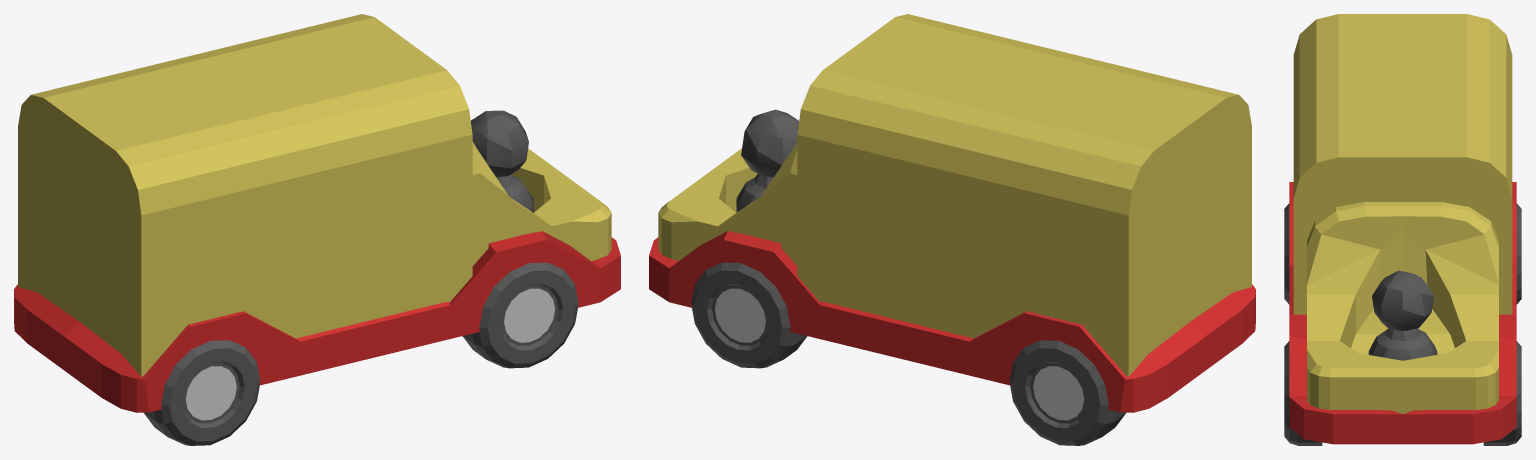
File: BasicTruck 1.fbx
3 views of the same model, side by side, from view 1: azimuth 30°, elevation 25°; view 2: azimuth 150°, elevation 25°; view 3: azimuth 270°, elevation 25° (orthographic). The views are drawn at different scales.
Visible parts, largest first — view 1: Back, Rim, Circle.001, Seat, peggy; view 2: Back, Rim, Circle.001, Seat, peggy; view 3: Back, Seat, Rim, peggy, Circle.001.
Part boxes in pixels (bbox=[...]): Back: bbox=[18, 14, 472, 376]; Rim: bbox=[14, 231, 620, 412]; Circle.001: bbox=[144, 262, 578, 445]; Seat: bbox=[472, 142, 611, 265]; peggy: bbox=[471, 110, 533, 212]; Back: bbox=[797, 14, 1251, 376]; Rim: bbox=[649, 231, 1255, 412]; Circle.001: bbox=[691, 262, 1125, 445]; Seat: bbox=[658, 142, 797, 265]; peggy: bbox=[736, 109, 798, 212]; Back: bbox=[1293, 14, 1512, 314]; Seat: bbox=[1307, 202, 1498, 413]; Rim: bbox=[1289, 182, 1516, 444]; peggy: bbox=[1368, 270, 1437, 360]; Circle.001: bbox=[1284, 203, 1521, 445].
Bounding box in the file's own units: 1646 × 900 × 744.
